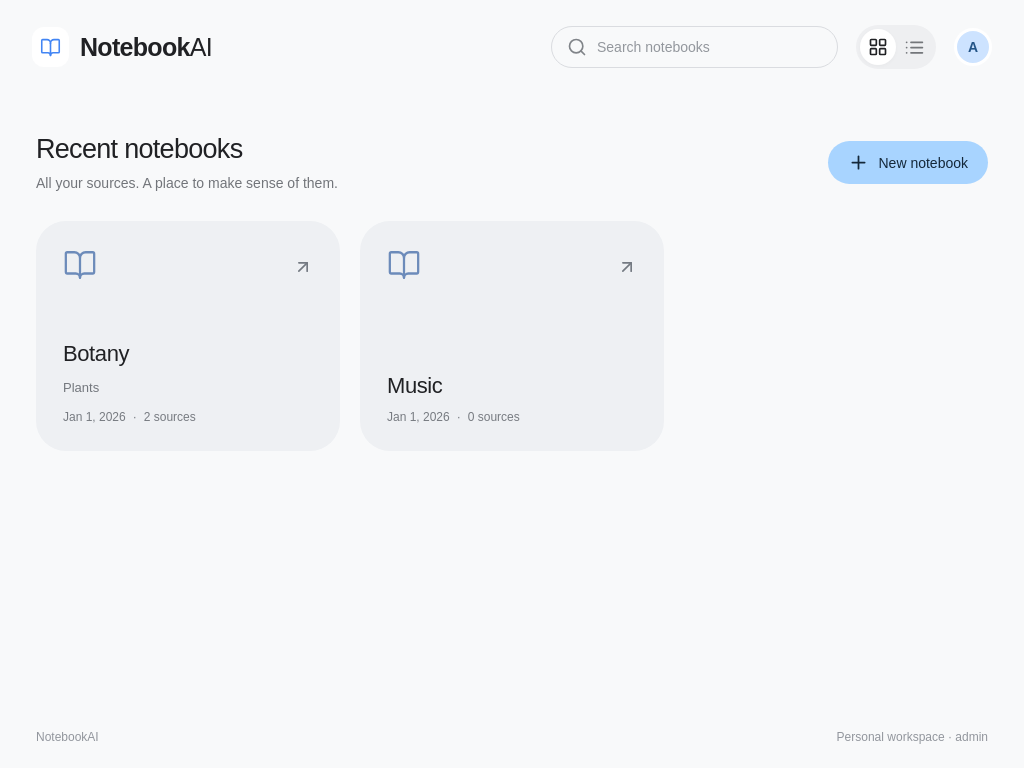
Test: filters notebooks and links to their workspaces
Type "plants" into the field labelled "Search notebooks".
click(710, 47); type("plants")  # box x1=597 y1=39 x2=822 y2=55
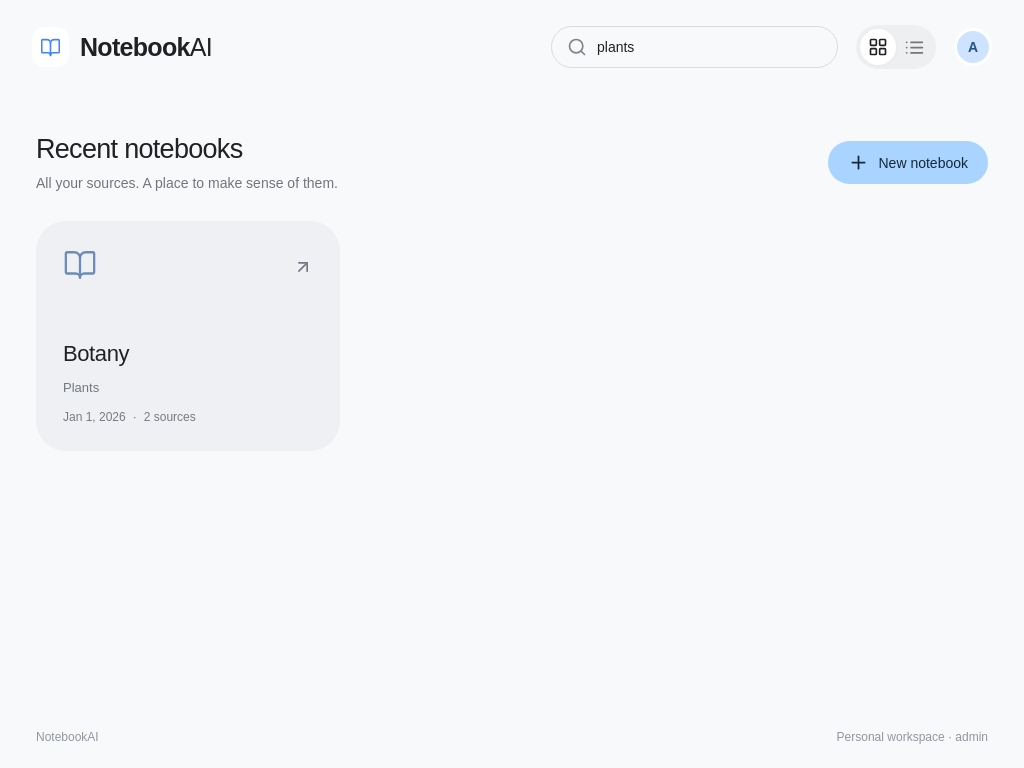
Result: the link "Music" is gone
